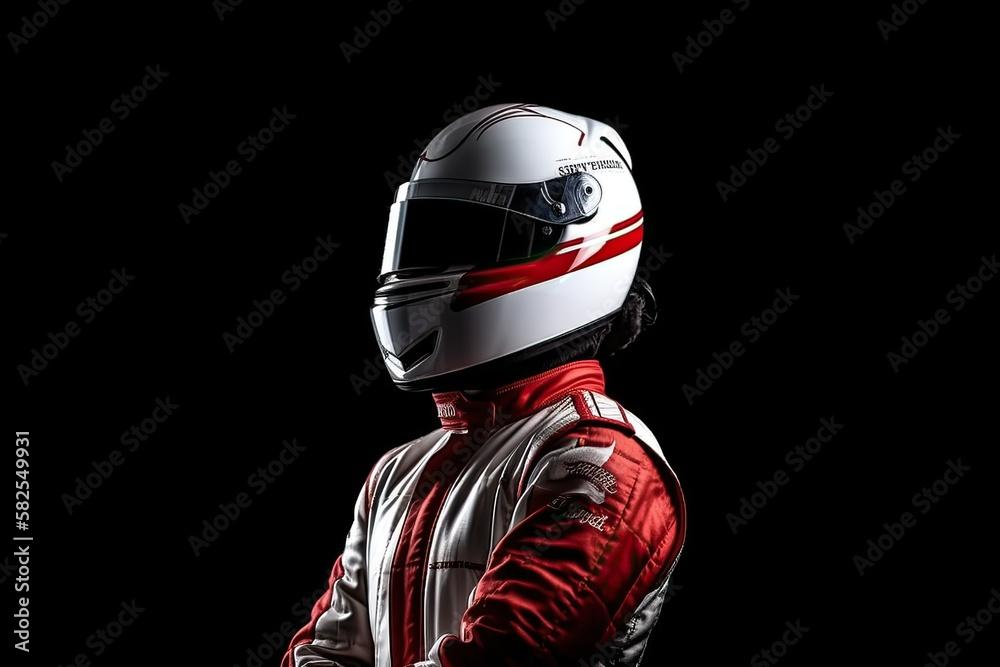helmet: (368, 101, 646, 394)
